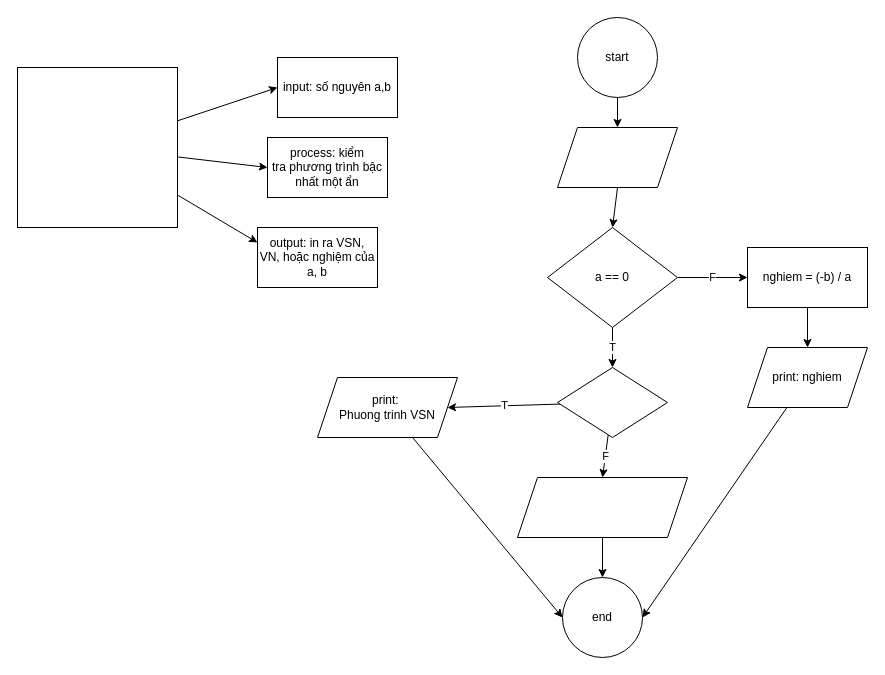
Image size: 885x675. Some labels were removed from this diagram. The shapes that lost their labels are listed below. From the top down, each one's centre as x and y in pixels, then its label:
the point at 97,147: nhập a,b kiểm tra pt bậc nhất 1 ẩn
the point at 617,157: input: a, b
the point at 612,402: b==0
the point at 602,507: print: Phuong trinh VN
